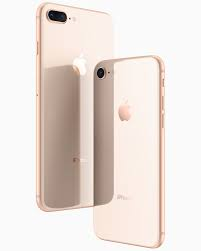iphone8: (89, 52, 168, 249)
